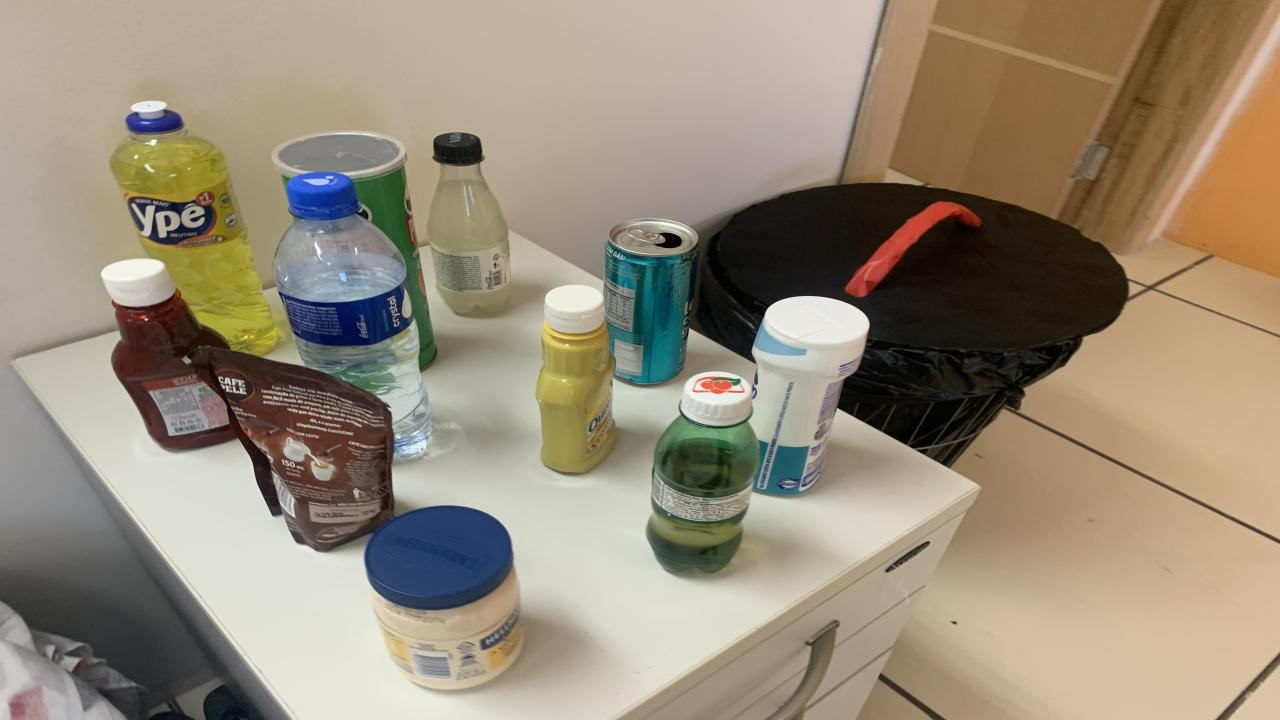Cleaner-Cleanup_Items: (750, 296, 870, 495)
Coffee-Pantry_Items: (188, 347, 395, 551)
Detergent-Cleanup_Items: (110, 101, 278, 354)
Guarana-Drinks: (648, 371, 760, 574)
Ketchup-Pantry_Items: (102, 259, 235, 450)
Mayonnaise-Pantry_Items: (365, 506, 525, 690)
Mustard-Pantry_Items: (535, 285, 618, 472)
Pringles-Snacks: (272, 131, 438, 368)
Soda-Drinks: (428, 133, 512, 315)
Tea-Drinks: (605, 218, 698, 384)
Water_Bottle-Drinks: (275, 171, 432, 458)
